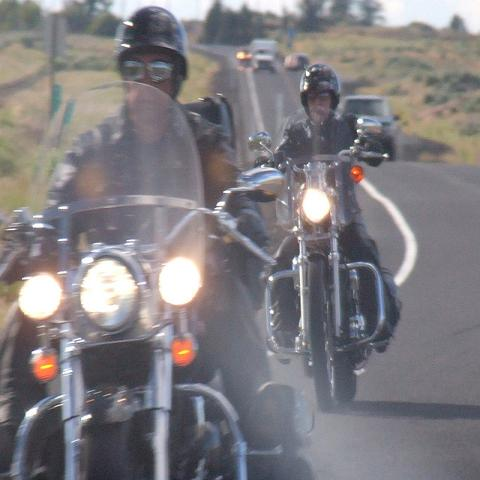car: (252, 42, 276, 76), (284, 52, 308, 70), (236, 46, 253, 67)
motorcycle: (4, 81, 285, 473), (249, 111, 394, 419)
truck: (342, 98, 400, 160), (252, 40, 278, 74)
